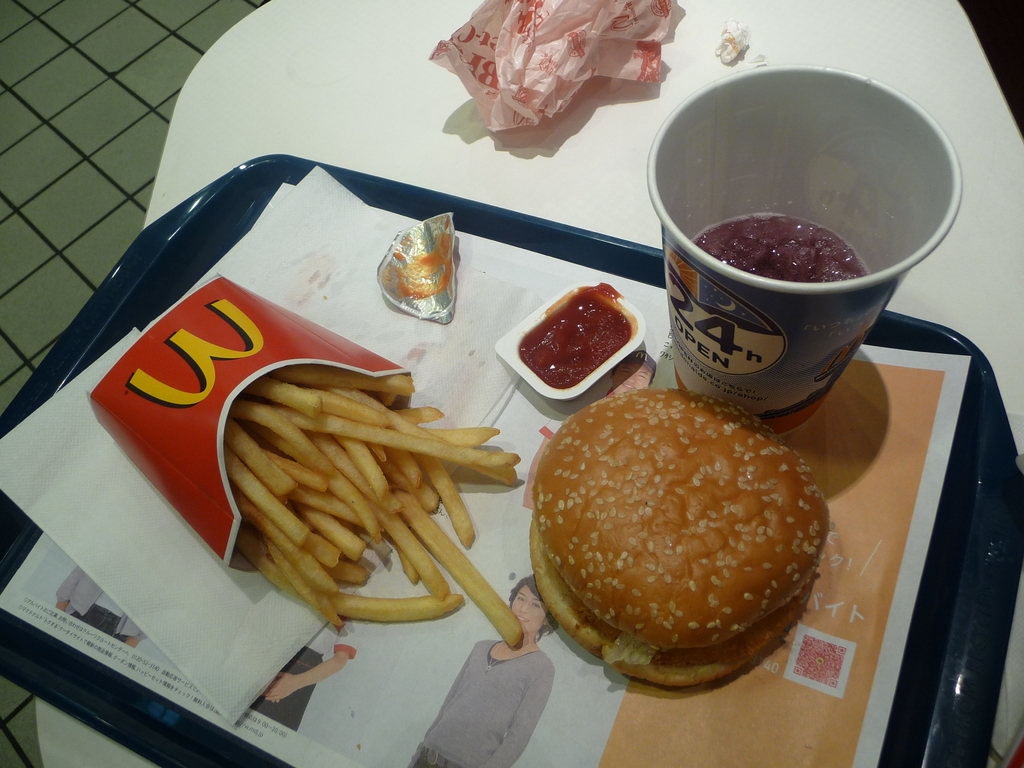French fries: (200, 353, 517, 645)
